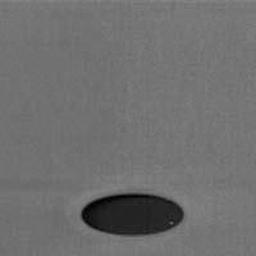Punching: (81, 192, 183, 237)
